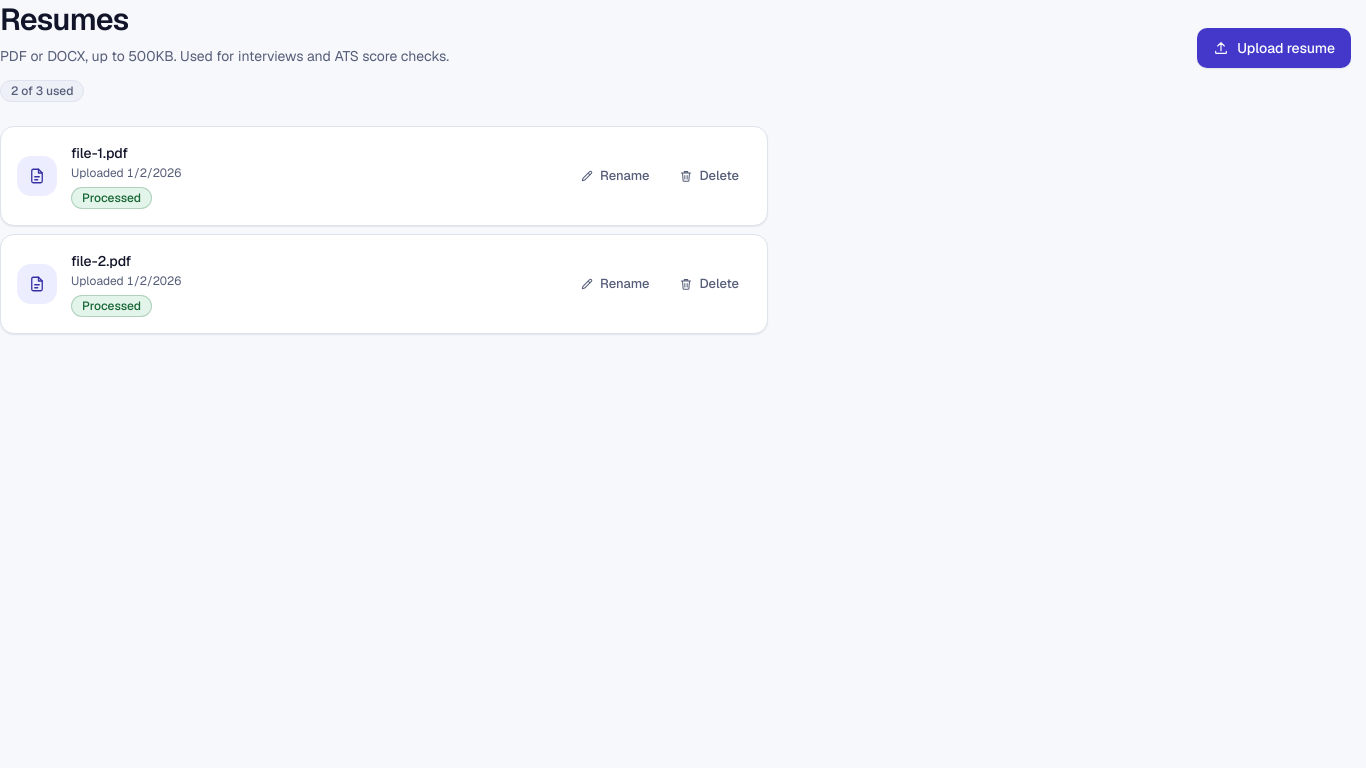
Test: ResumesView › deletes a resume through the in-app dialog even when window.confirm would answer 'no'
Click the button with aria-label "Delete file-1.pdf" at (709, 176), box [667,160,751,192]
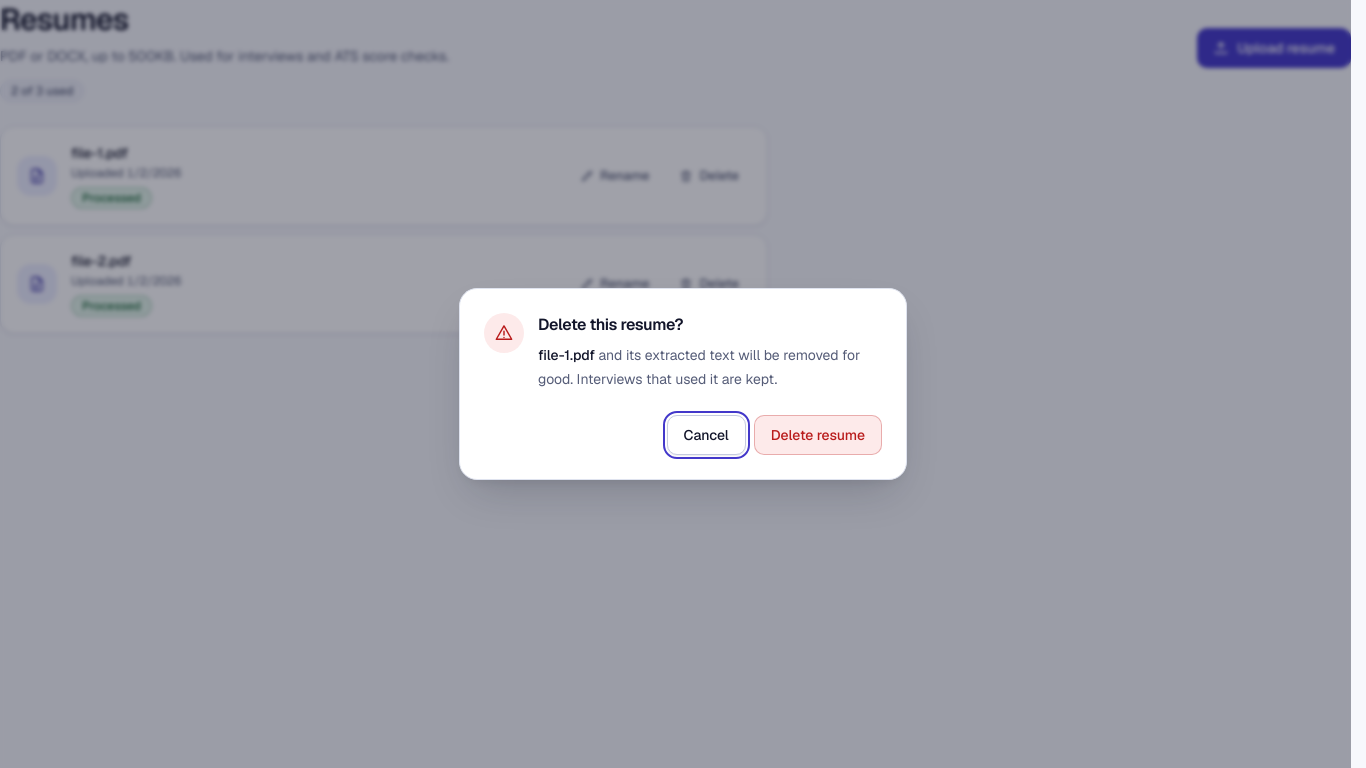
Click the button "Delete resume" at (818, 435), box [754,415,882,455]
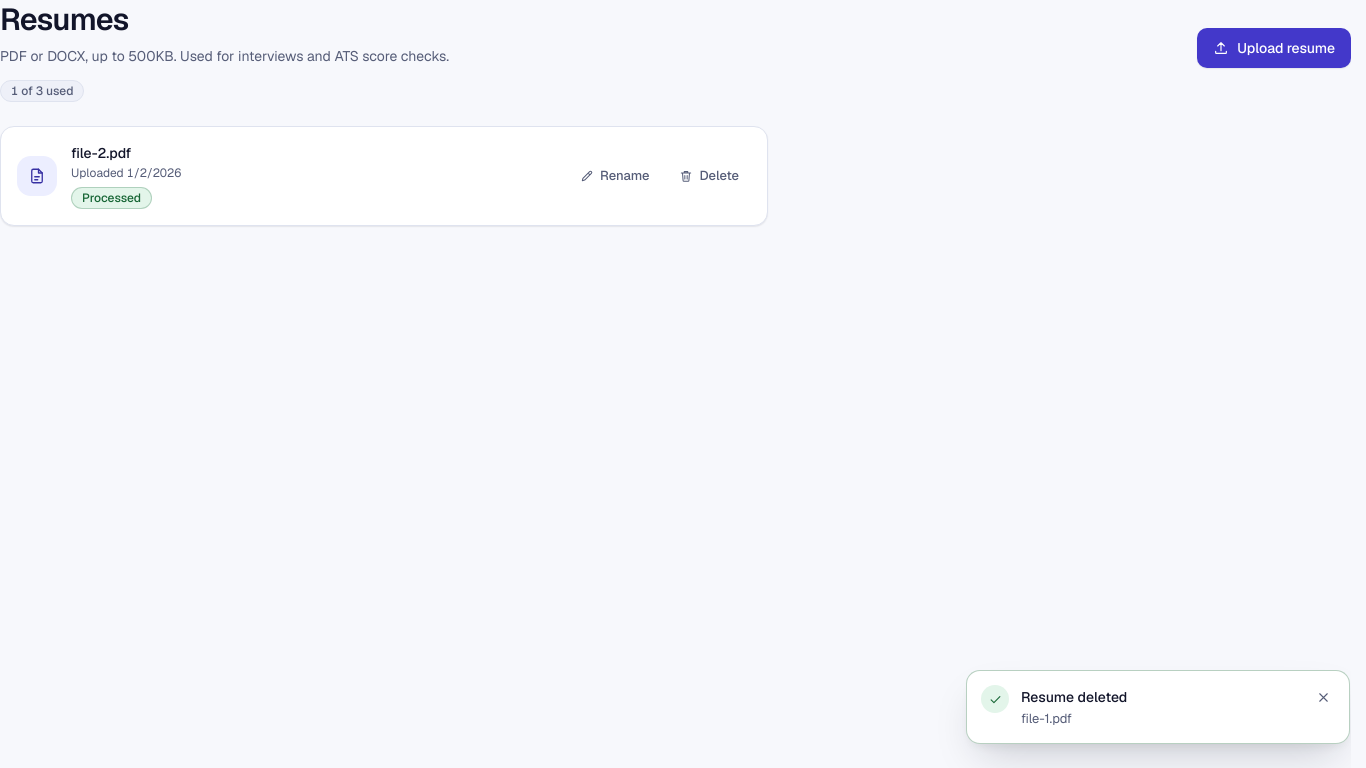
Check: the text "file-2.pdf" is shown, box [71,144,131,162]
Check: the dialog is gone
Check: the text "Resume deleted" is shown, box [1021,688,1127,706]
